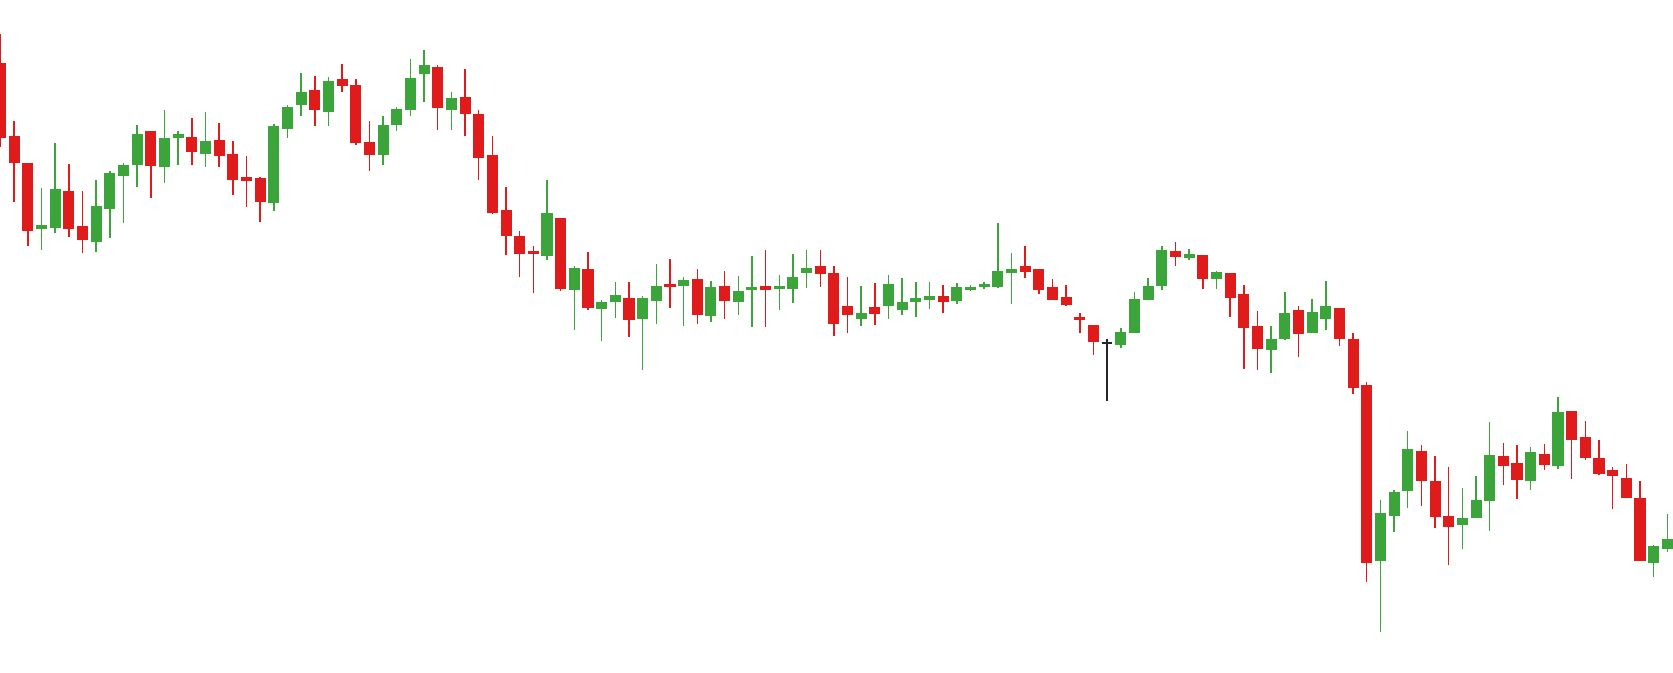sell: (333, 53, 445, 143), (1483, 395, 1577, 488)
